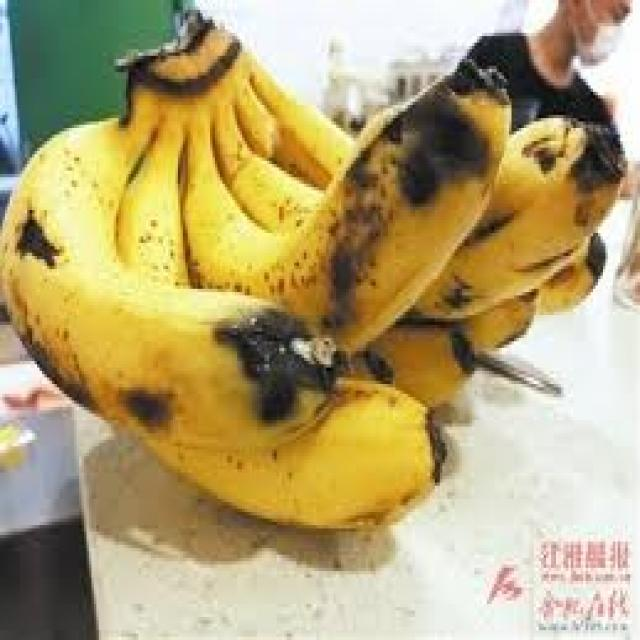organic waste: (0, 16, 623, 528), (0, 115, 341, 433), (180, 56, 504, 371), (121, 374, 445, 525), (341, 214, 596, 306), (400, 112, 623, 210), (119, 105, 185, 305)
